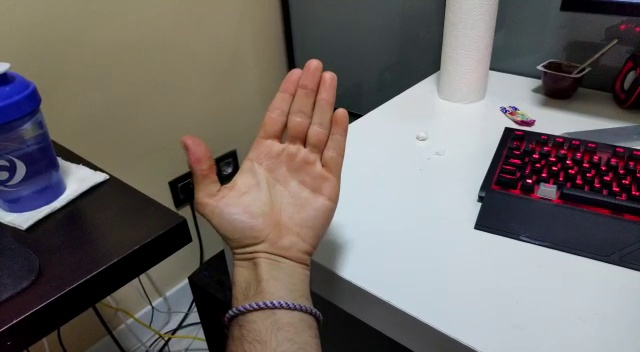Palm: (182, 58, 356, 275)
